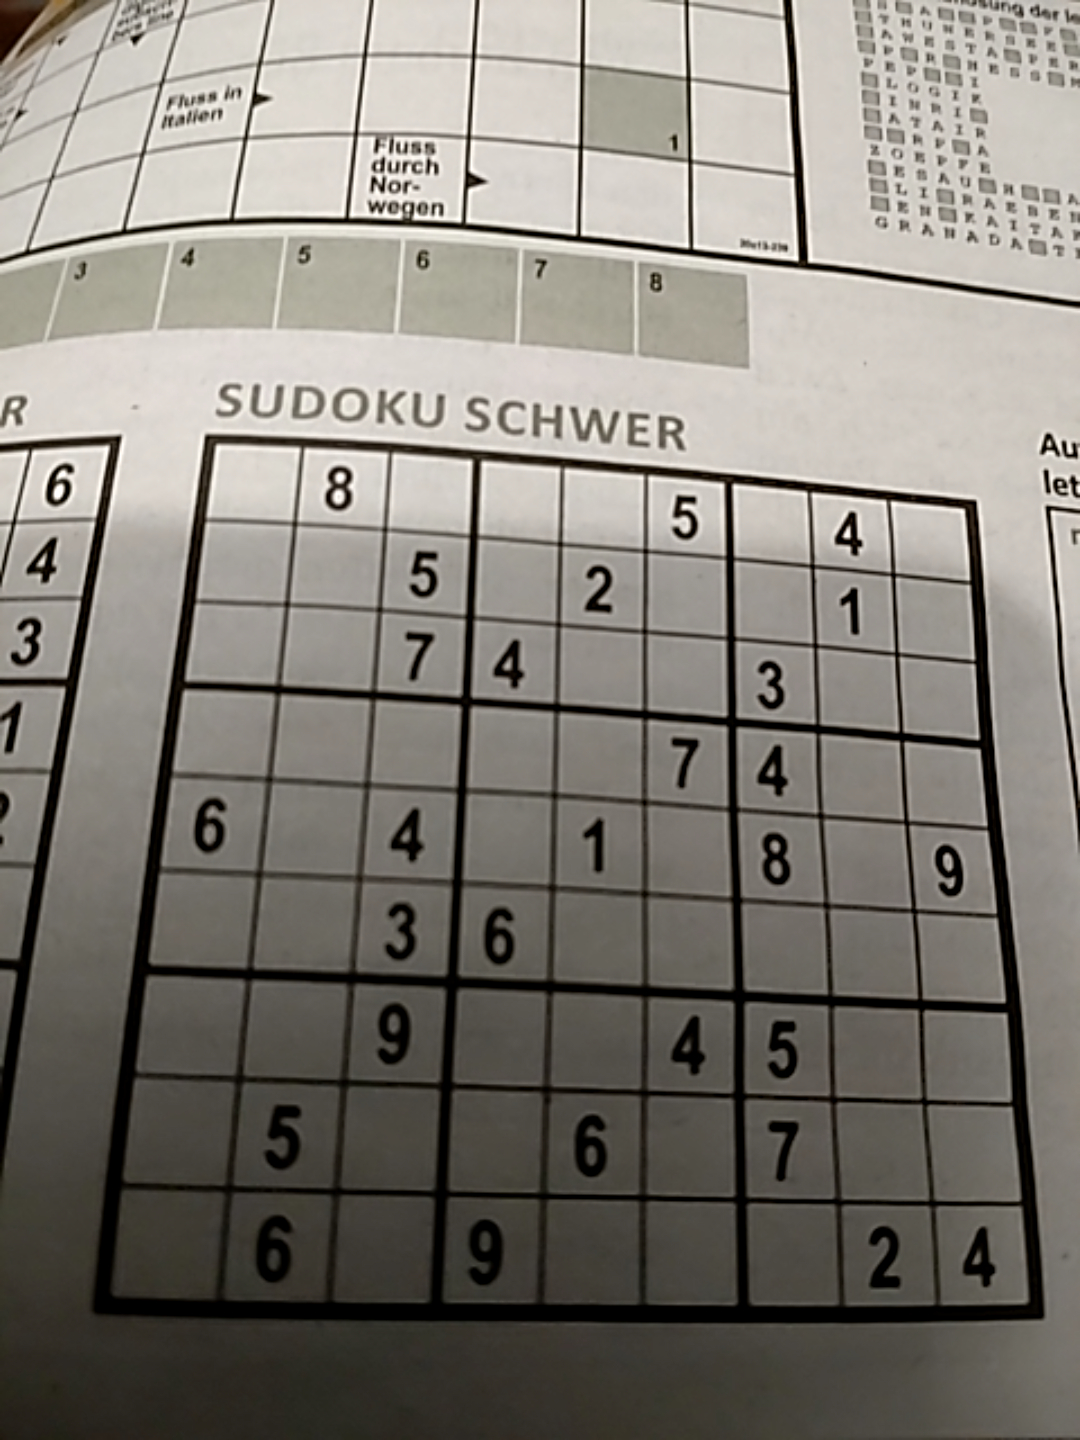sudoku: (86, 424, 1050, 1338)
